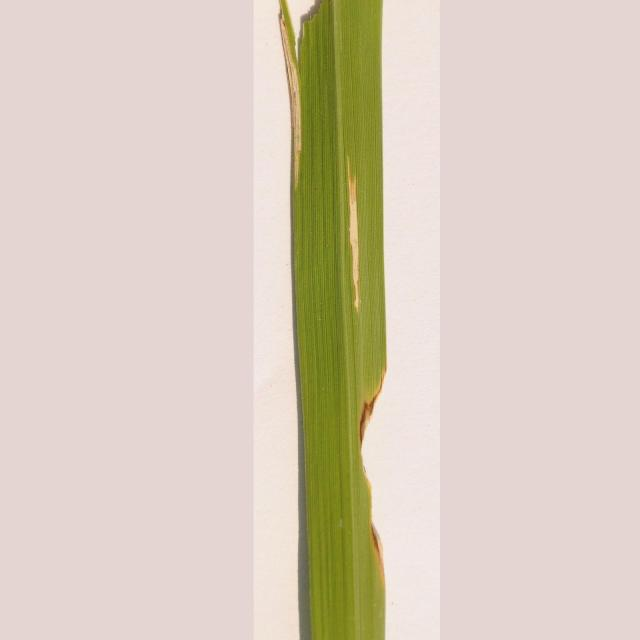Bacterial leaf blight: (351, 351, 407, 566), (274, 7, 314, 193), (333, 146, 372, 328)
